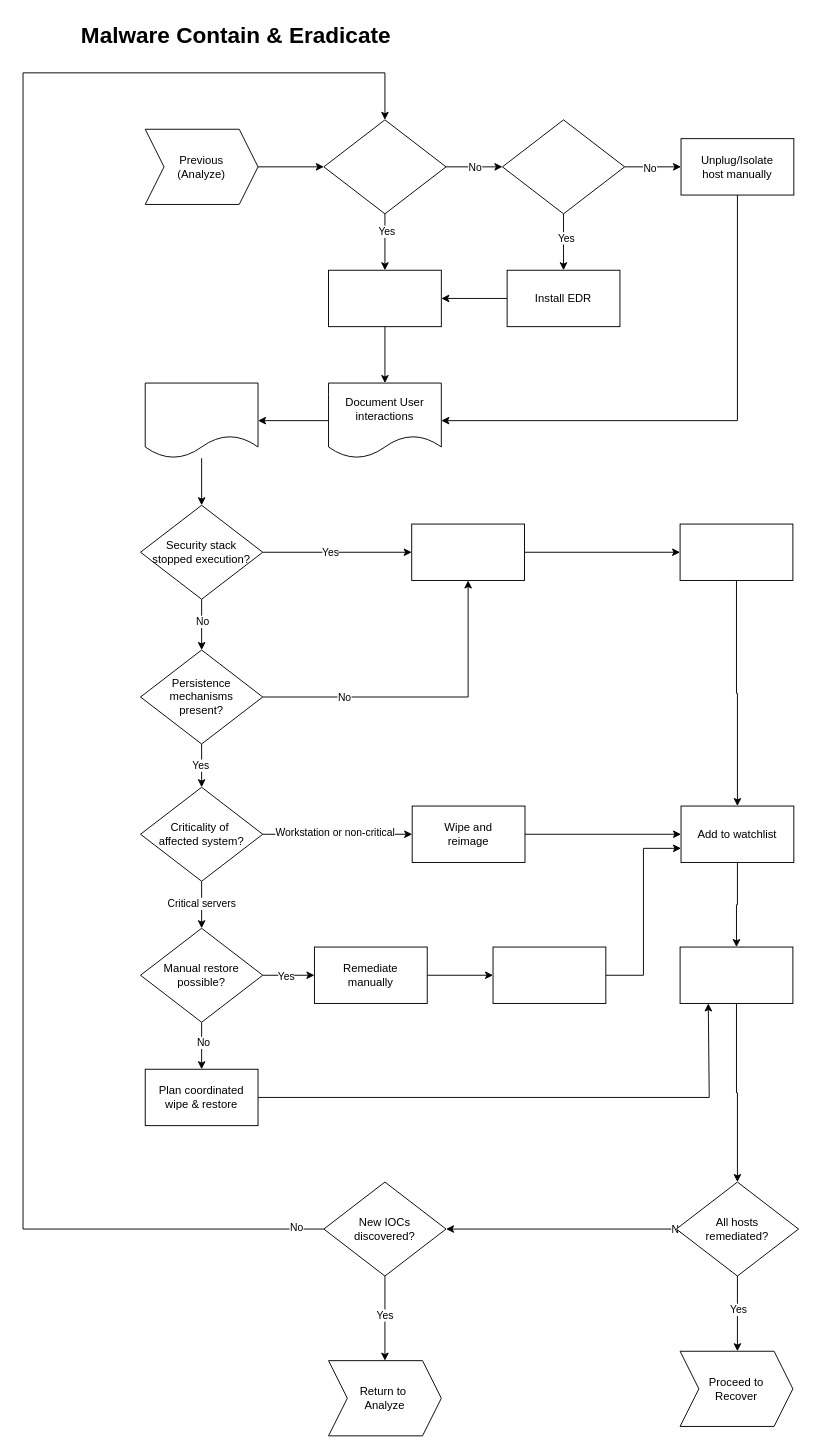
Some shapes in this 815 by 1452 pixel diagram are drawn without their labels. The shapes that lost their labels are listed below. From the top down, each one's centre as x and y in pixels, then its label:
(x=384, y=166): EDR installed on host?
(x=563, y=166): Installation possible?
(x=384, y=298): Isolate/segment affected device
(x=201, y=420): Document AV/EDR interactions
(x=468, y=551): Remove IOCs from system
(x=736, y=551): Scan device
(x=549, y=974): Validate system integrity
(x=736, y=974): Block IOCs
